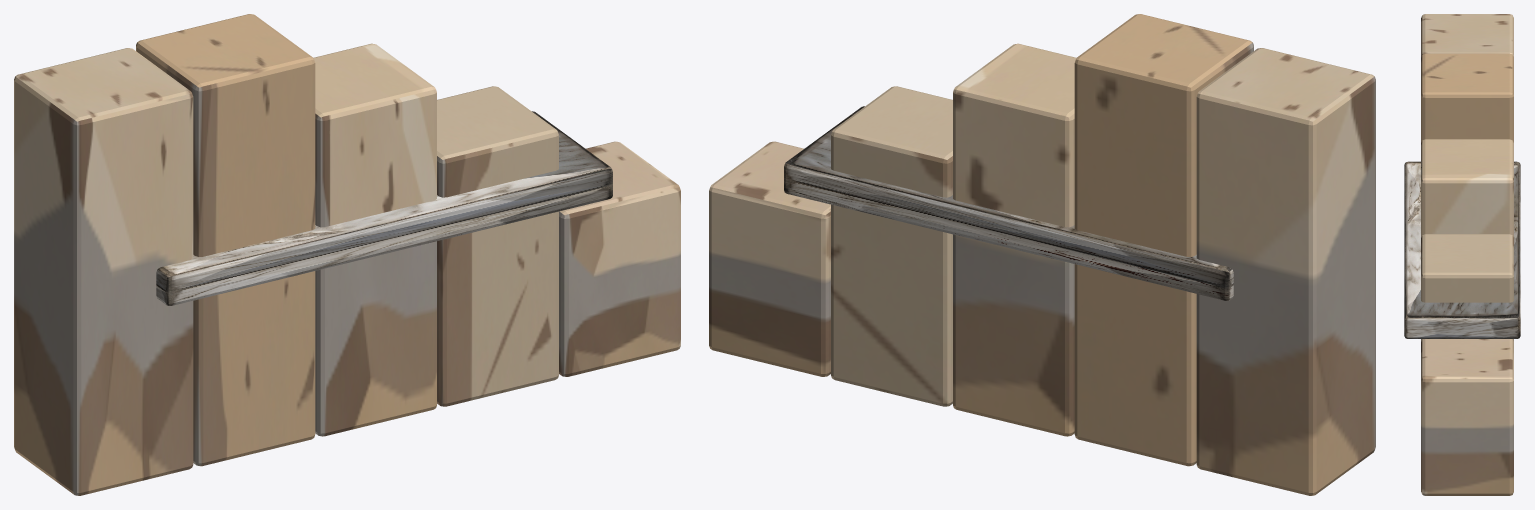
Rendered from ruin_wall_180_LOD1.glb.
3 views of the same model, side by side, from view 1: azimuth 30°, elevation 25°; view 2: azimuth 150°, elevation 25°; view 3: azimuth 270°, elevation 25° (orthographic). The views are drawn at different scales.
Visible parts, largest first — view 1: LOD1_Profile, LOD1_Profile.001, LOD1_Profile.002, LOD1_Profile.003, LOD1_Profile.004, LOD1_MantleShelf; view 2: LOD1_Profile, LOD1_Profile.001, LOD1_Profile.002, LOD1_Profile.003, LOD1_Profile.004, LOD1_MantleShelf; view 3: LOD1_Profile.004, LOD1_Profile.002, LOD1_Profile.001, LOD1_MantleShelf, LOD1_Profile.003, LOD1_Profile.
Part boxes in pixels (x1,y1,x2,y2): LOD1_Profile: [14, 48, 193, 495]; LOD1_Profile.001: [136, 14, 315, 466]; LOD1_Profile.002: [313, 43, 436, 436]; LOD1_Profile.003: [437, 86, 558, 406]; LOD1_Profile.004: [559, 141, 680, 376]; LOD1_MantleShelf: [156, 111, 612, 305]; LOD1_Profile: [1196, 48, 1375, 495]; LOD1_Profile.001: [1074, 14, 1253, 466]; LOD1_Profile.002: [953, 43, 1076, 436]; LOD1_Profile.003: [831, 86, 952, 406]; LOD1_Profile.004: [709, 141, 830, 376]; LOD1_MantleShelf: [784, 106, 1233, 300]; LOD1_Profile.004: [1421, 339, 1513, 495]; LOD1_Profile.002: [1421, 139, 1513, 237]; LOD1_Profile.001: [1421, 53, 1513, 142]; LOD1_MantleShelf: [1404, 161, 1520, 338]; LOD1_Profile.003: [1421, 234, 1513, 341]; LOD1_Profile: [1421, 14, 1513, 57].
Size of the model in its own units: 2.99 by 1.8 by 0.69.
2 materials, 2 textured.
